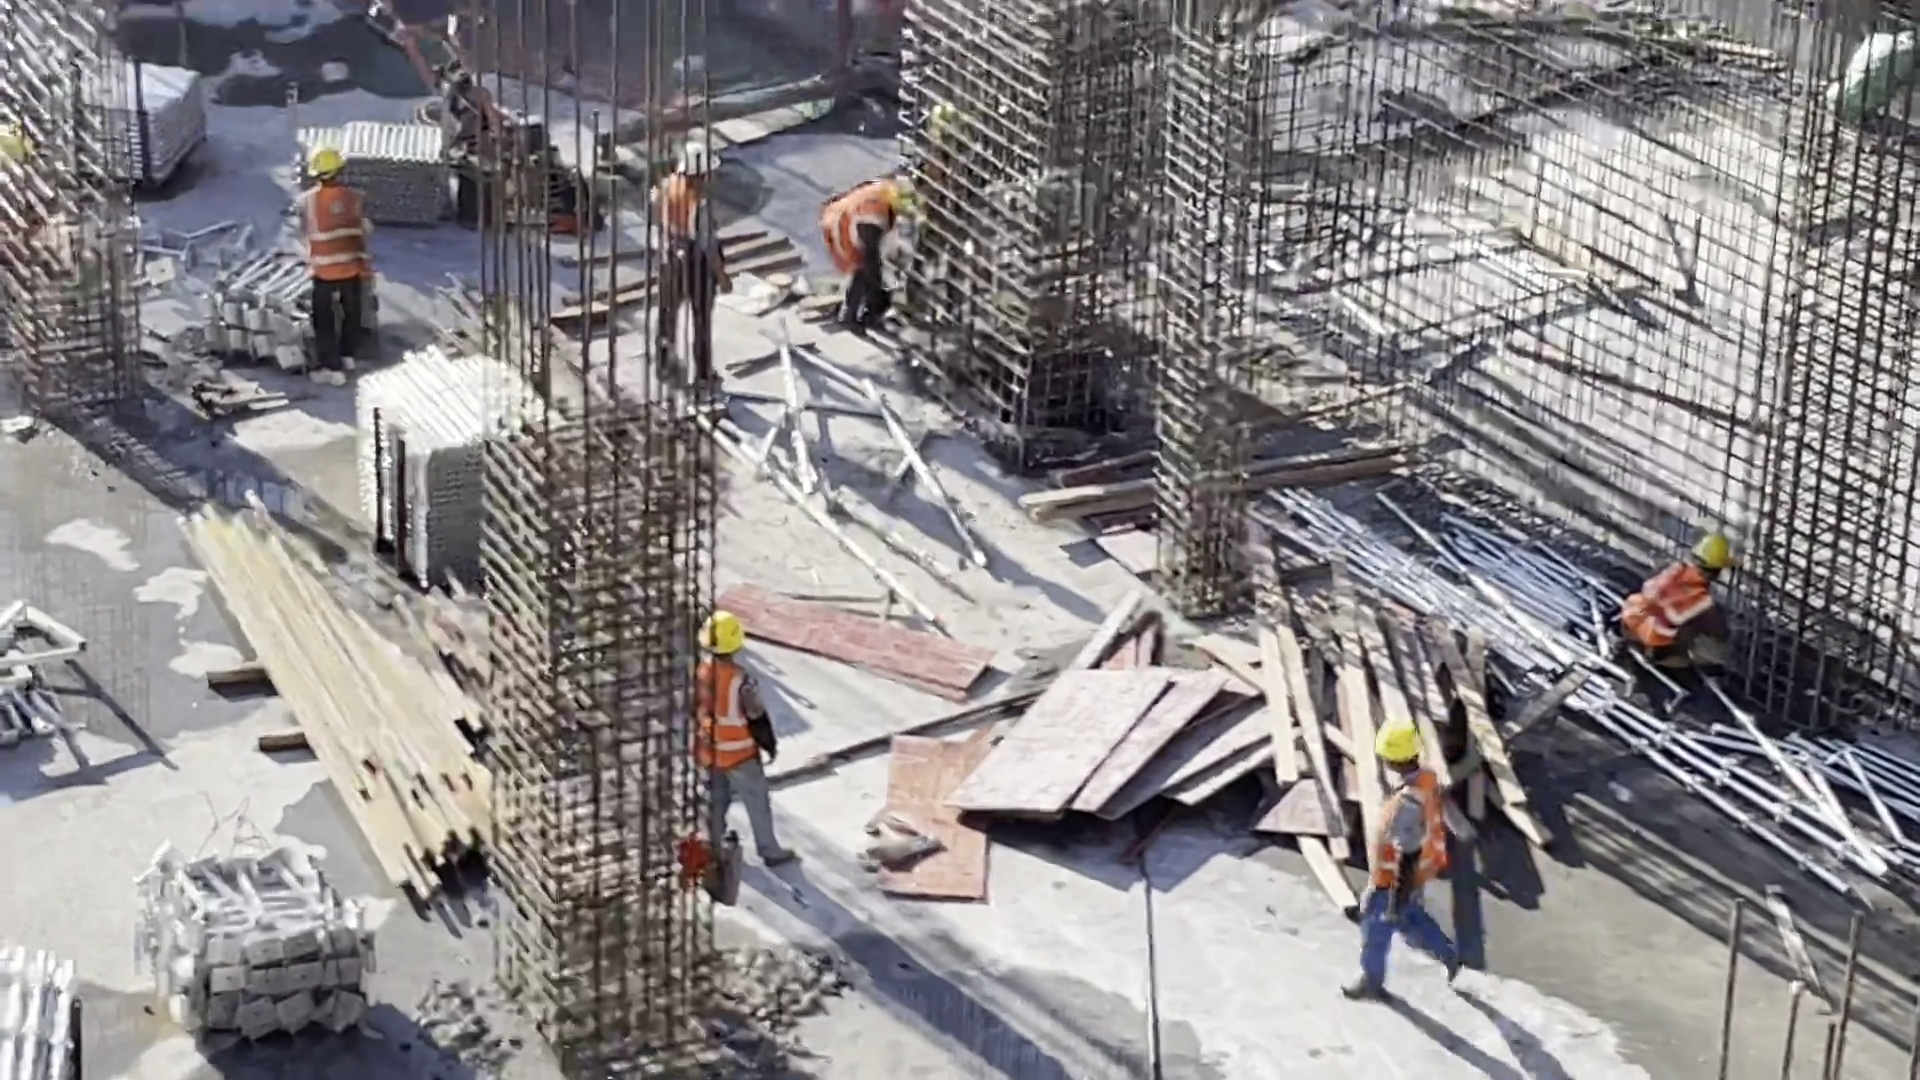helmet: (1361, 718, 1434, 776), (692, 607, 756, 650), (1689, 523, 1727, 587), (674, 137, 716, 176), (889, 164, 919, 216), (307, 139, 345, 174)
person: (1354, 717, 1458, 1024), (686, 608, 801, 878), (285, 145, 384, 386), (1617, 513, 1741, 686), (647, 137, 729, 393), (814, 156, 915, 326)
vest: (1360, 783, 1452, 894), (1616, 550, 1700, 655), (687, 653, 756, 768), (822, 175, 886, 267), (300, 192, 364, 274), (649, 179, 711, 260)
